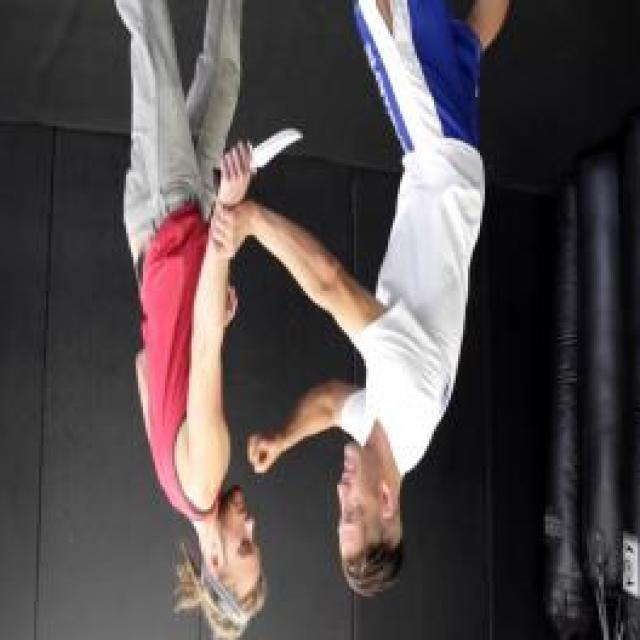knife: (204, 115, 309, 204)
